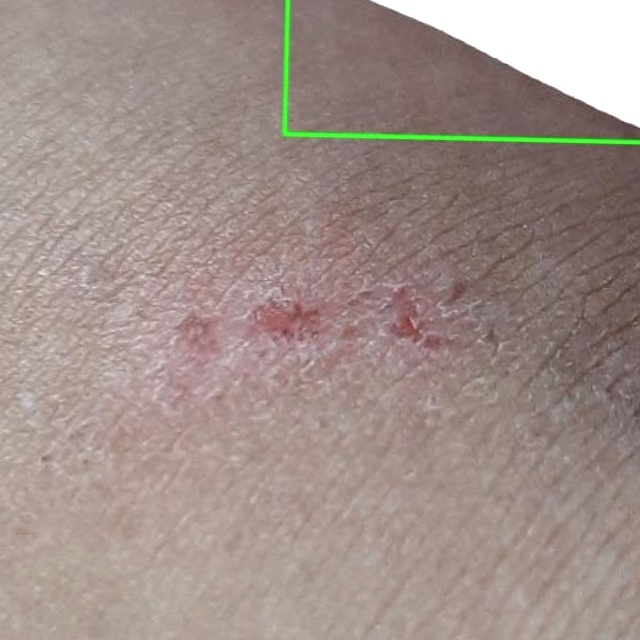Scabies: (283, 0, 639, 142)
